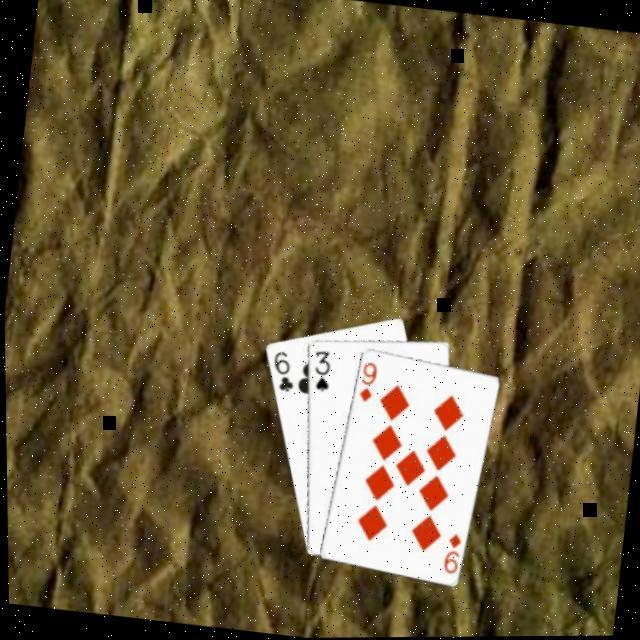3S: (304, 344, 333, 392)
6C: (263, 344, 297, 394)
9D: (434, 528, 462, 576), (352, 356, 378, 404)
